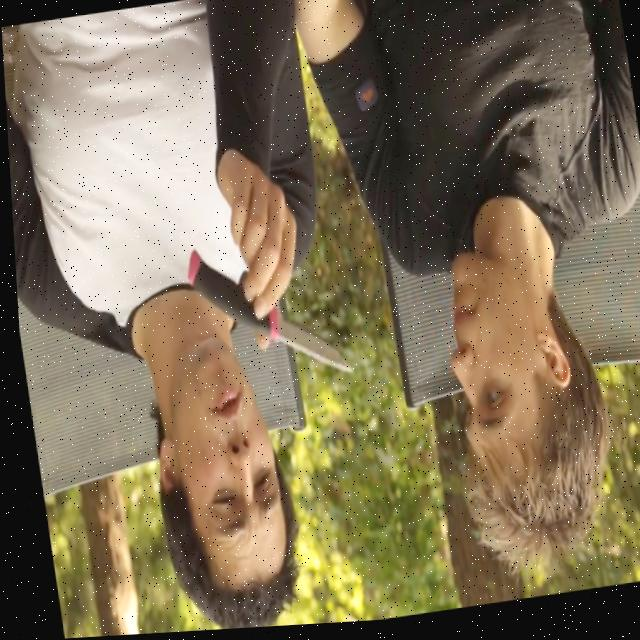knife: (185, 218, 353, 415)
